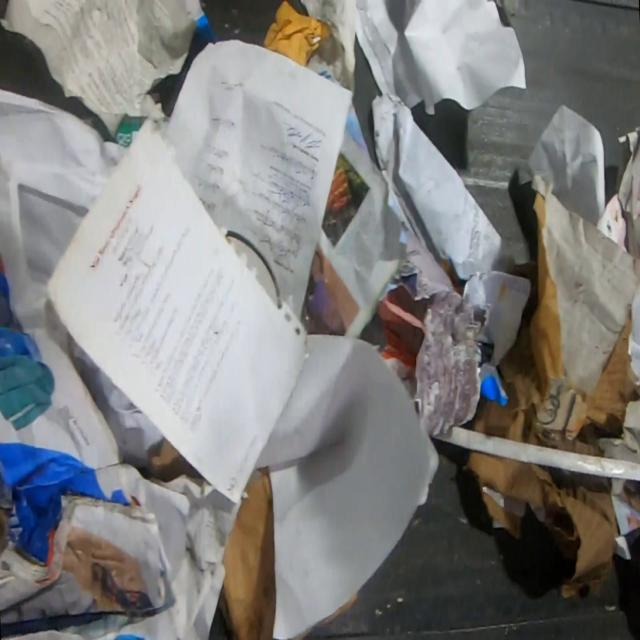cardboard: (0, 249, 190, 640), (469, 173, 640, 458), (460, 448, 619, 598), (216, 464, 276, 639), (149, 433, 205, 484), (314, 588, 358, 626), (290, 624, 312, 639)
